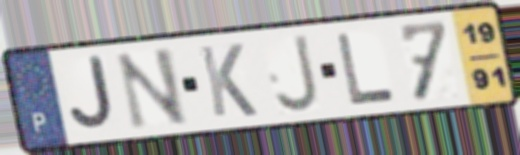7: (397, 17, 451, 103)
J: (272, 32, 323, 116), (66, 53, 118, 133)
K: (196, 41, 261, 120)
L: (333, 31, 399, 107)
N: (112, 45, 191, 133)
